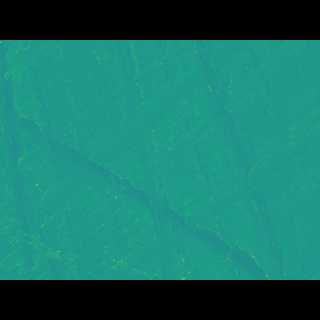Loch: (0, 69, 320, 248), (7, 123, 271, 250)
